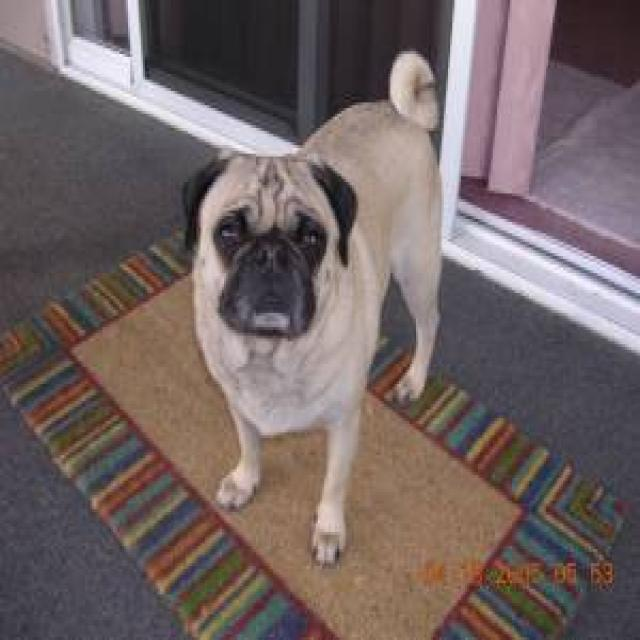dog-pug: (173, 43, 452, 575)
